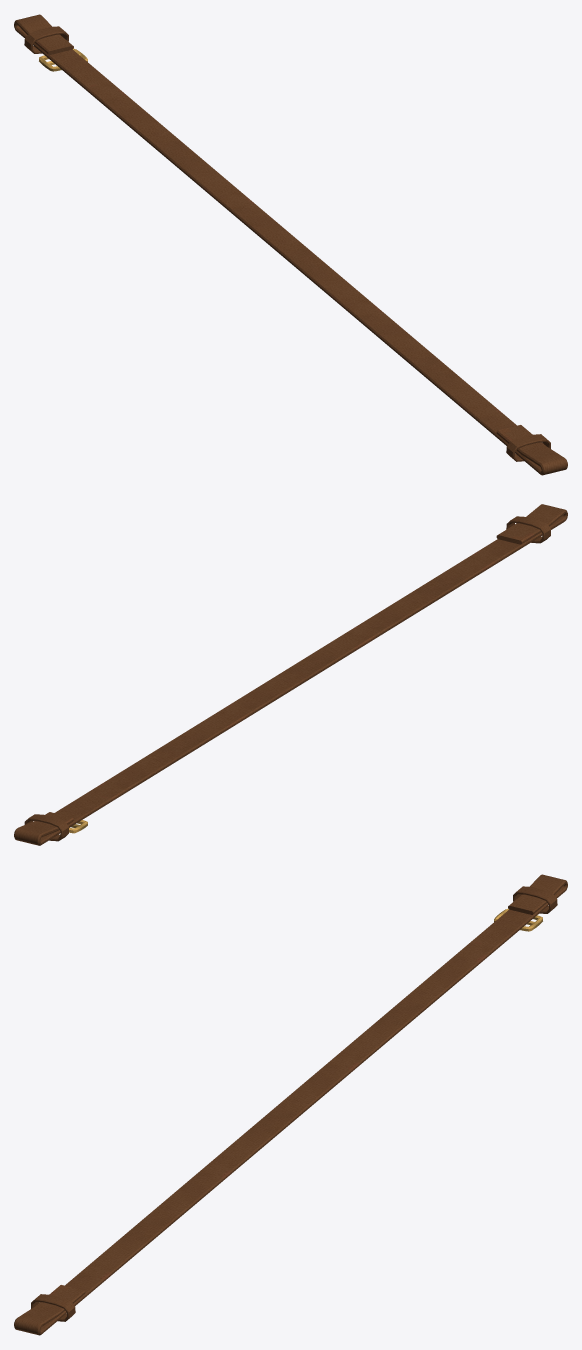
File: musket_sling.glb
The picture shows the model from 3 angles, top to bottom: view 1: azimuth 30°, elevation 25°; view 2: azimuth 150°, elevation 25°; view 3: azimuth 330°, elevation 25°; orthographic projection.
Parts seen in each view (by area): view 1: SlingTaut, SlingEnds; view 2: SlingTaut, SlingEnds; view 3: SlingTaut, SlingEnds.
Boxes of the visible parts, x1,y1,x2,y2 form: SlingTaut: (86, 82, 493, 414); SlingEnds: (14, 14, 567, 475); SlingTaut: (88, 555, 494, 801); SlingEnds: (14, 504, 567, 845); SlingTaut: (88, 942, 495, 1274); SlingEnds: (14, 874, 567, 1335).
Bounding box in the file's own units: 0.0354 × 0.0642 × 0.8297.
Materials: 2 (2 with a texture image).
